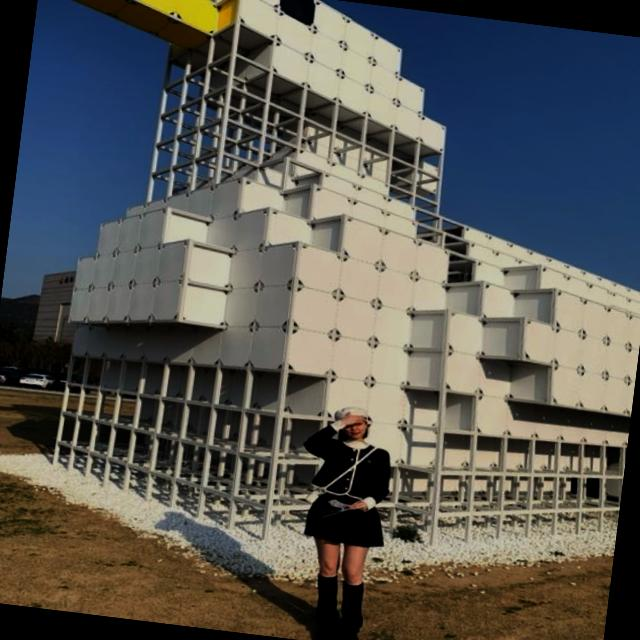cardigan: (296, 424, 396, 506)
skirt: (301, 490, 392, 553)
